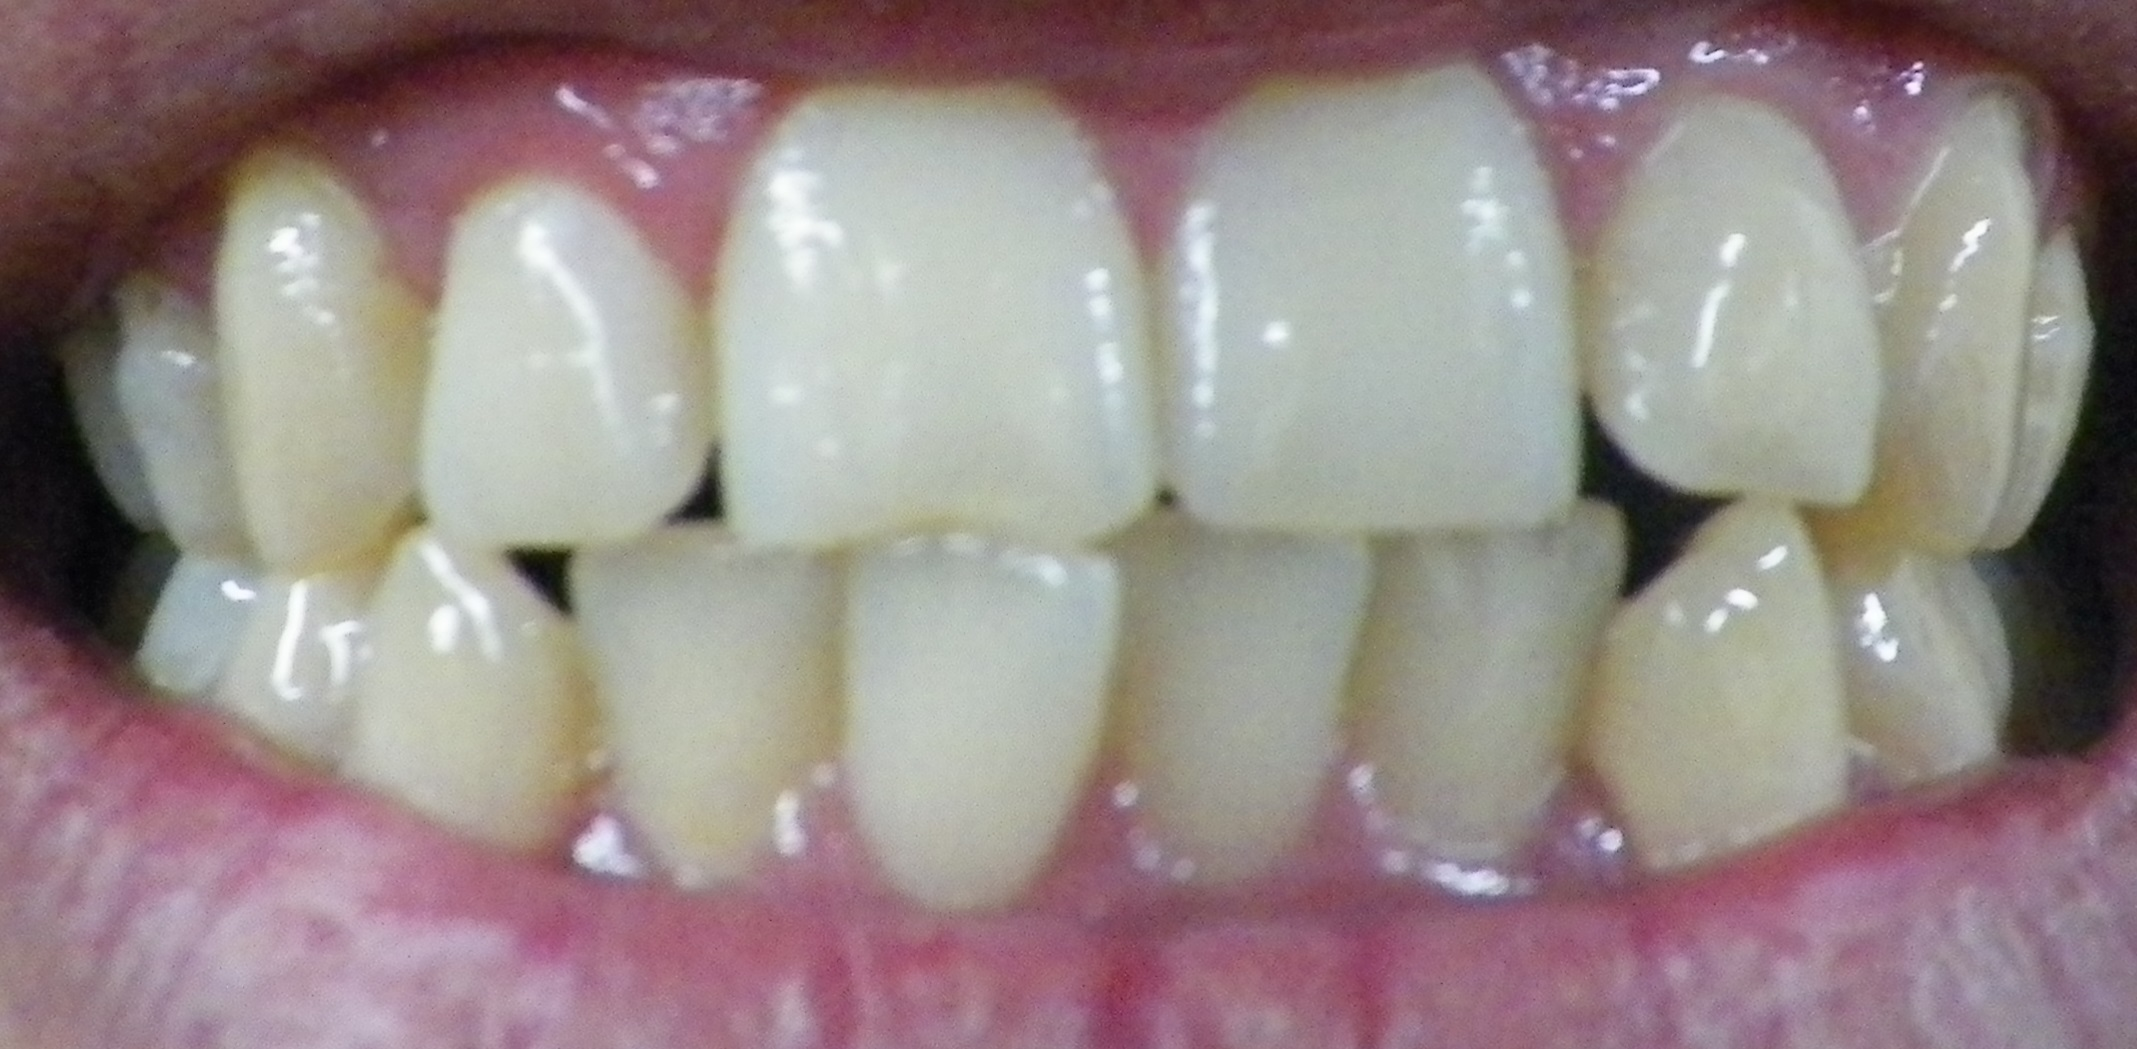boca: (68, 89, 2088, 875)
